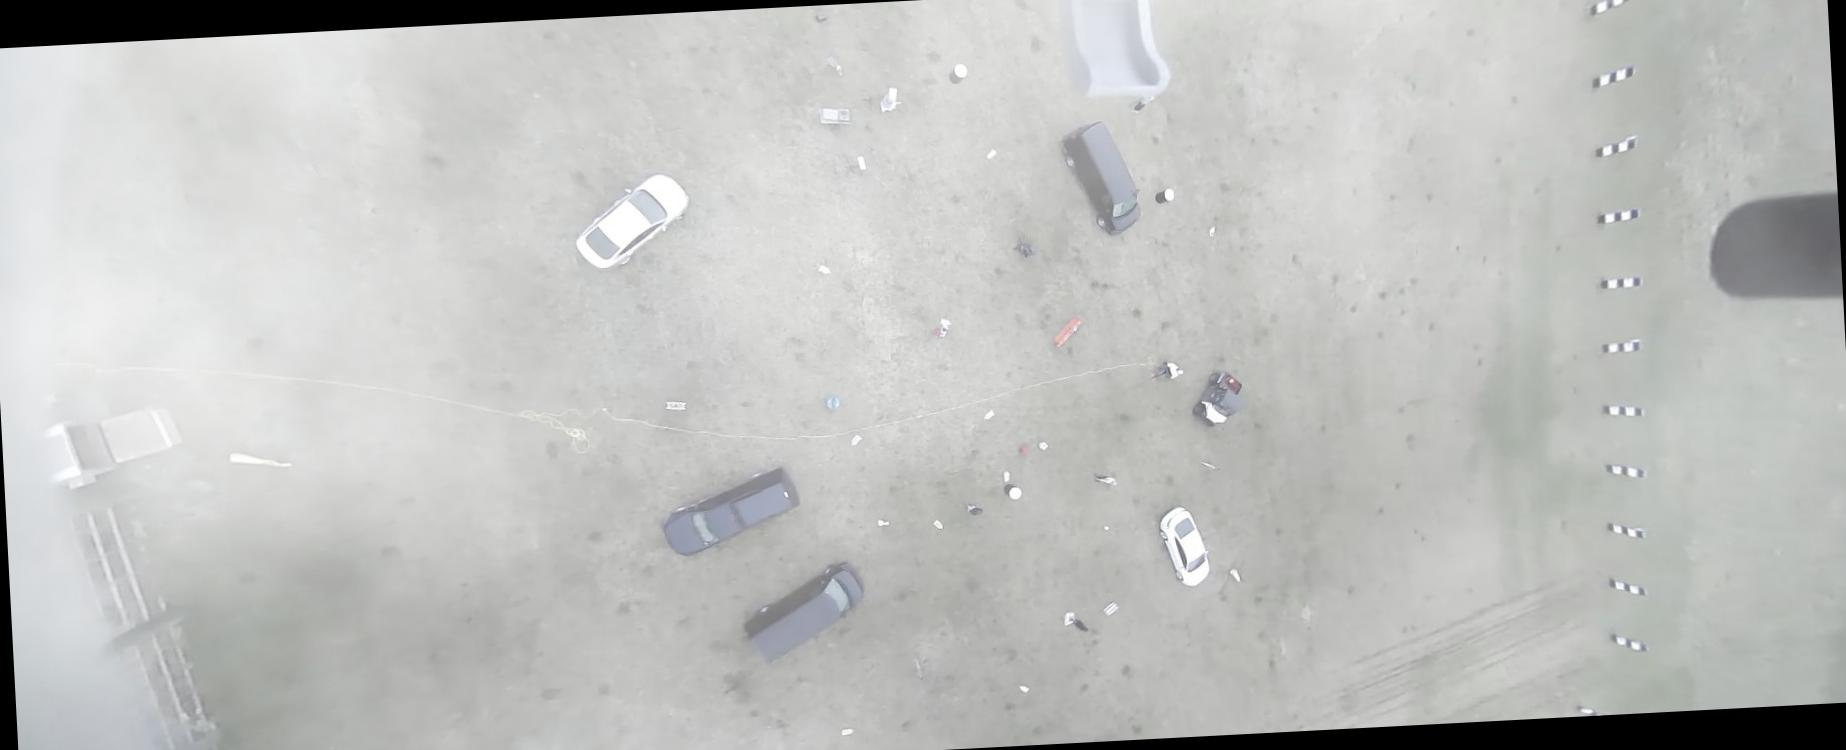vehicle: (739, 560, 867, 664), (660, 465, 801, 558), (571, 170, 693, 271), (1059, 118, 1142, 237), (1159, 504, 1212, 588), (1191, 369, 1244, 428)
